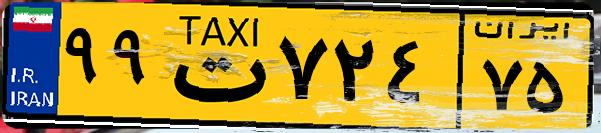2: (330, 28, 385, 110)
4: (385, 28, 445, 110)
5: (525, 38, 570, 115)
7: (270, 28, 330, 110), (475, 38, 525, 113)
9: (57, 26, 110, 100), (110, 28, 158, 98)
ت: (158, 12, 270, 120)
